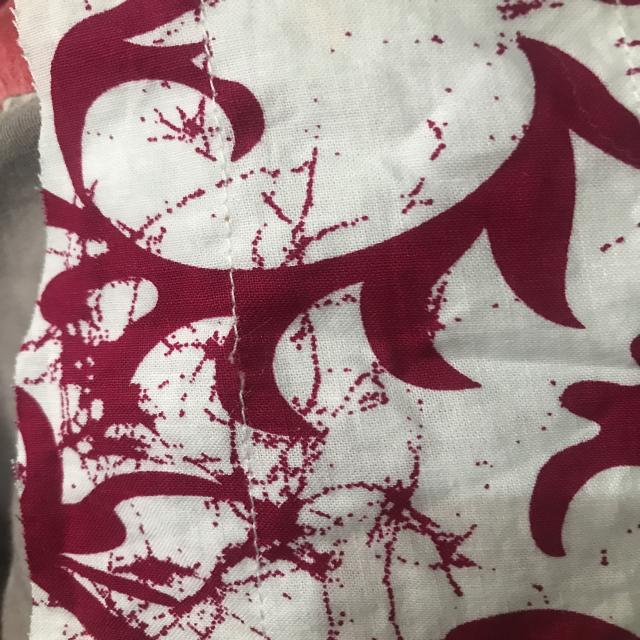broken: (214, 325, 258, 387)
